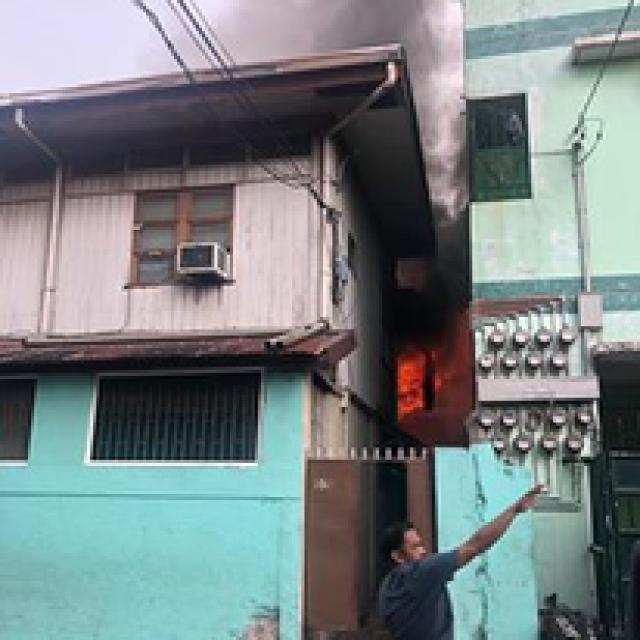Fire: (394, 345, 454, 410)
Smoke: (422, 13, 468, 226), (263, 0, 438, 40)
